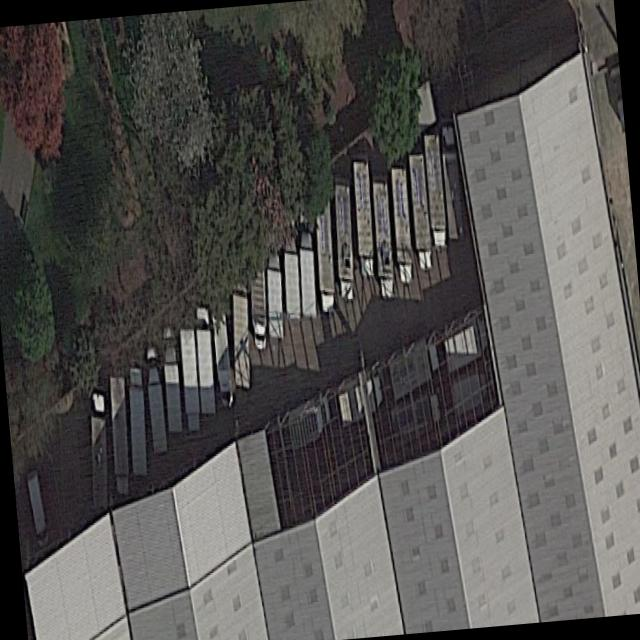large-vehicle: (405, 150, 433, 274), (350, 154, 376, 280), (312, 185, 336, 317), (370, 171, 394, 303), (422, 130, 448, 251), (389, 162, 414, 287), (143, 342, 169, 458), (439, 121, 464, 241), (192, 299, 217, 419), (177, 324, 203, 437), (332, 176, 355, 303), (108, 372, 130, 497), (88, 389, 108, 520), (126, 360, 148, 478), (210, 302, 234, 410), (231, 270, 251, 394), (161, 326, 183, 436), (23, 464, 50, 553), (248, 253, 268, 353), (298, 219, 317, 321), (282, 230, 301, 323), (266, 246, 284, 342)
